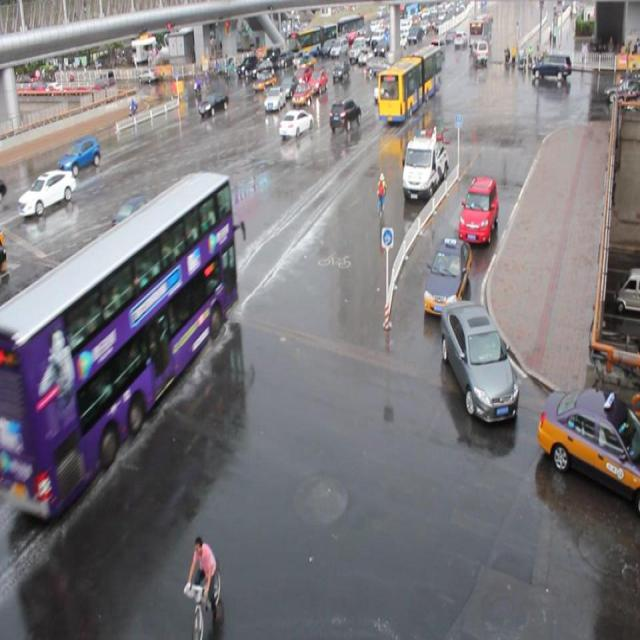bus: (400, 130, 448, 197)
car: (536, 386, 640, 514), (439, 299, 518, 422), (111, 194, 178, 260), (422, 235, 472, 315), (456, 173, 497, 243), (19, 170, 76, 214), (60, 136, 102, 173), (1, 296, 20, 367), (329, 96, 361, 130), (279, 108, 313, 140), (198, 90, 229, 117), (292, 80, 313, 107), (252, 69, 276, 92), (264, 86, 285, 112), (307, 68, 329, 92), (373, 79, 393, 101), (280, 75, 299, 98)
van: (1, 168, 237, 517), (377, 46, 441, 120)
